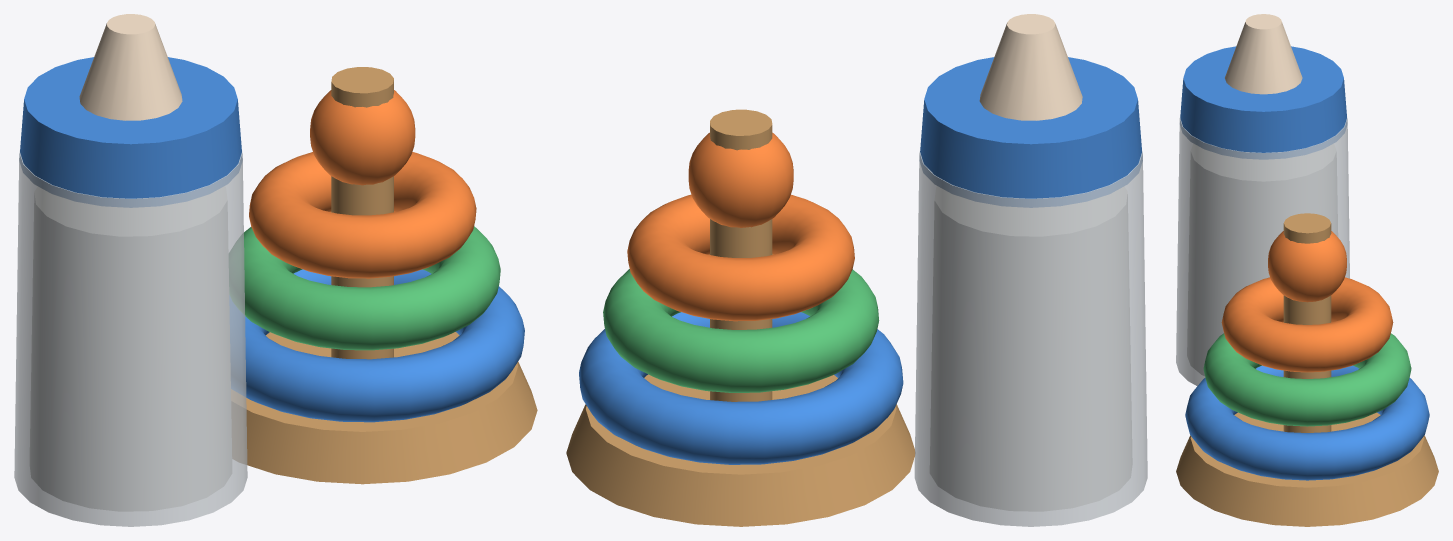
Rendered from baby-essentials.glb.
3 renders of one model, left to right at view 1: azimuth 30°, elevation 25°; view 2: azimuth 150°, elevation 25°; view 3: azimuth 270°, elevation 25°, orthographic. The views are drawn at different scales.
Parts seen in each view (by area): view 1: BabyEssentials; view 2: BabyEssentials; view 3: BabyEssentials.
Part boxes in pixels (x1,y1,x2,y2): BabyEssentials: [14, 14, 537, 526]; BabyEssentials: [566, 14, 1147, 526]; BabyEssentials: [1176, 14, 1438, 526].
Size of the model in its own units: 1.22 by 1.07 by 0.72.
